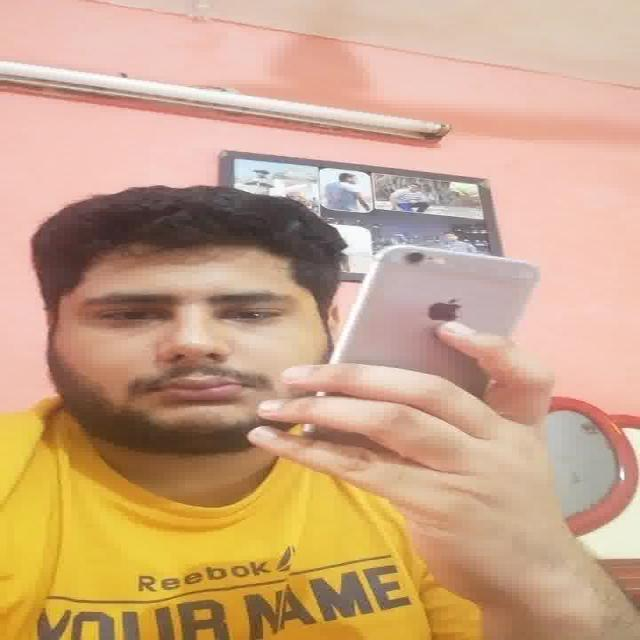Phone: (341, 243, 540, 393)
